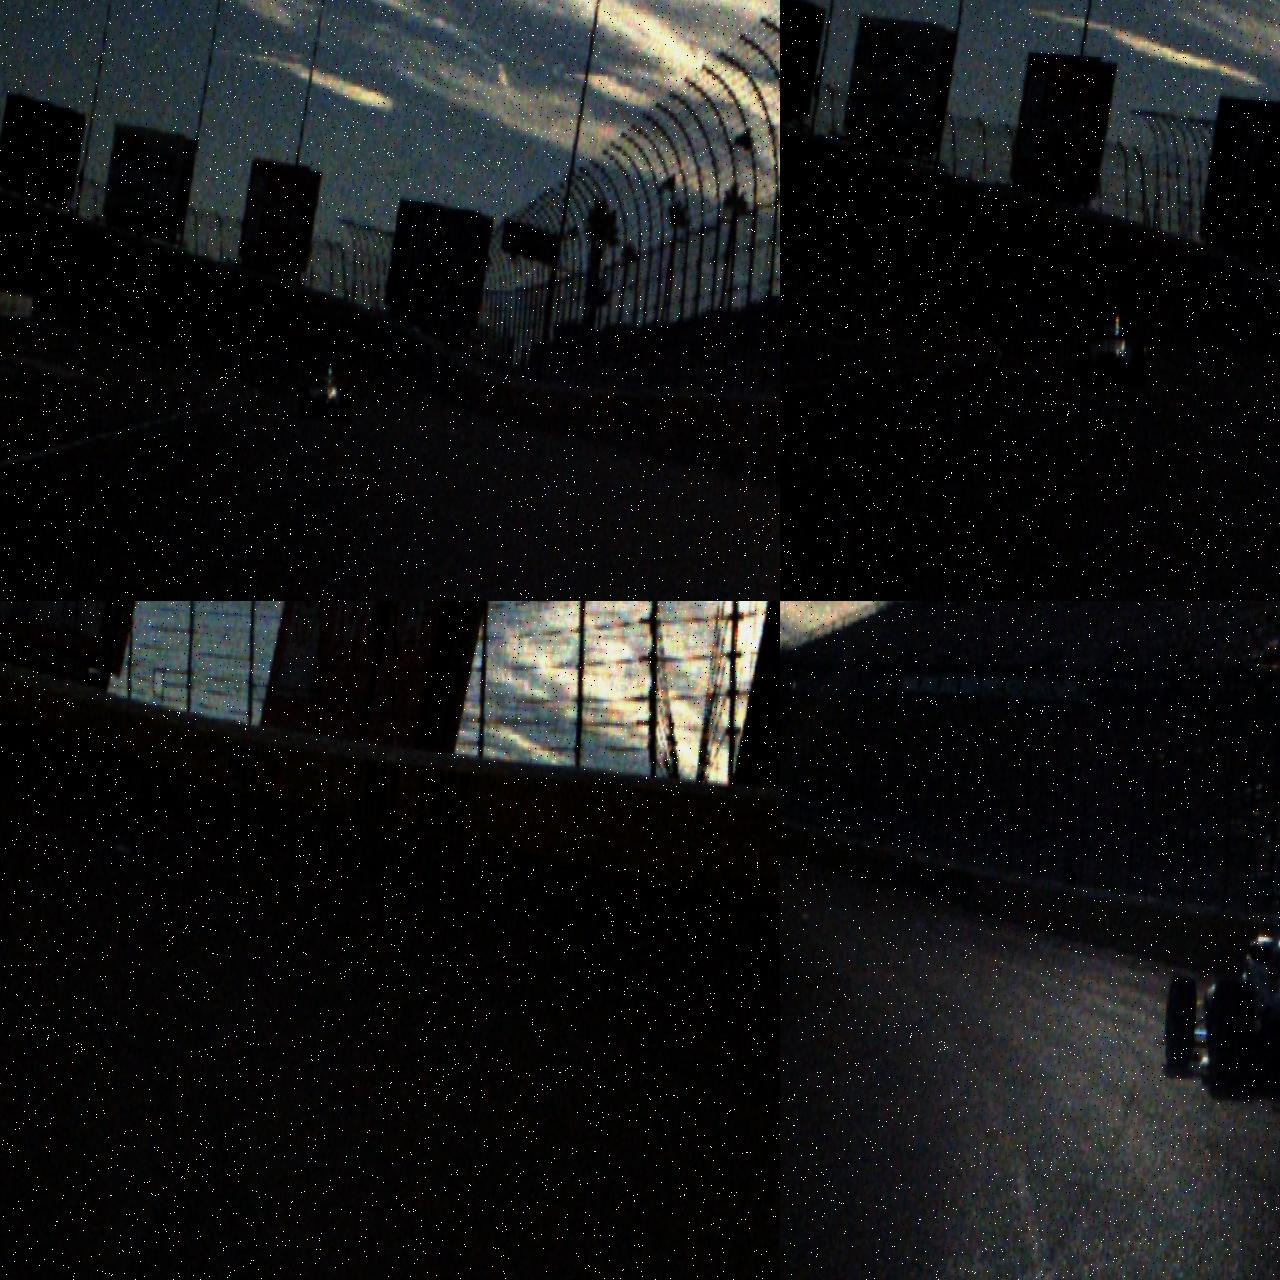AV: (1160, 880, 1280, 1111), (1075, 306, 1151, 389), (300, 359, 355, 422)
Wheel: (1205, 980, 1257, 1102), (1162, 976, 1198, 1073), (1130, 343, 1148, 388), (1075, 342, 1091, 384), (340, 389, 353, 421), (300, 388, 311, 418), (0, 845, 5, 897)
